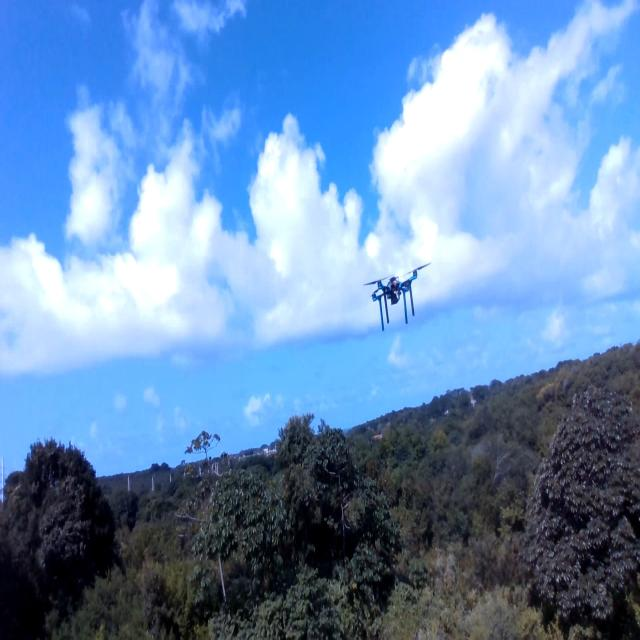-uav-: (350, 258, 439, 336)
